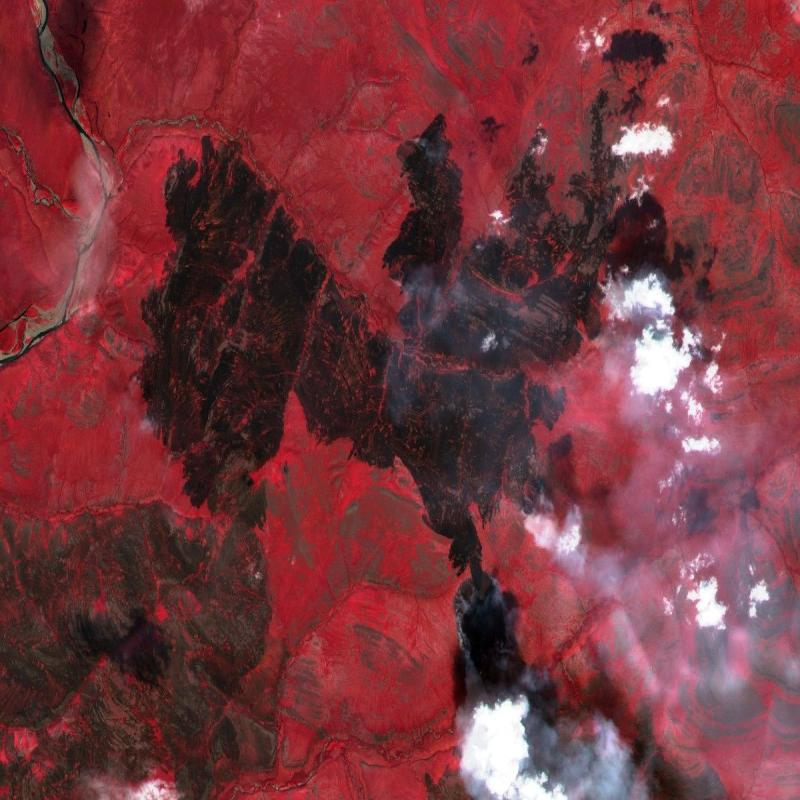fire: (444, 563, 514, 658), (511, 445, 563, 535), (374, 260, 422, 332), (406, 122, 434, 164)
